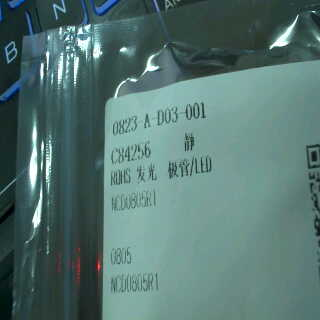LED: (137, 155, 215, 185)
